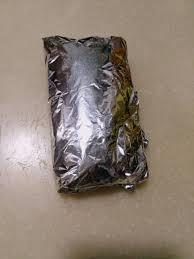metal: (43, 35, 150, 194)
